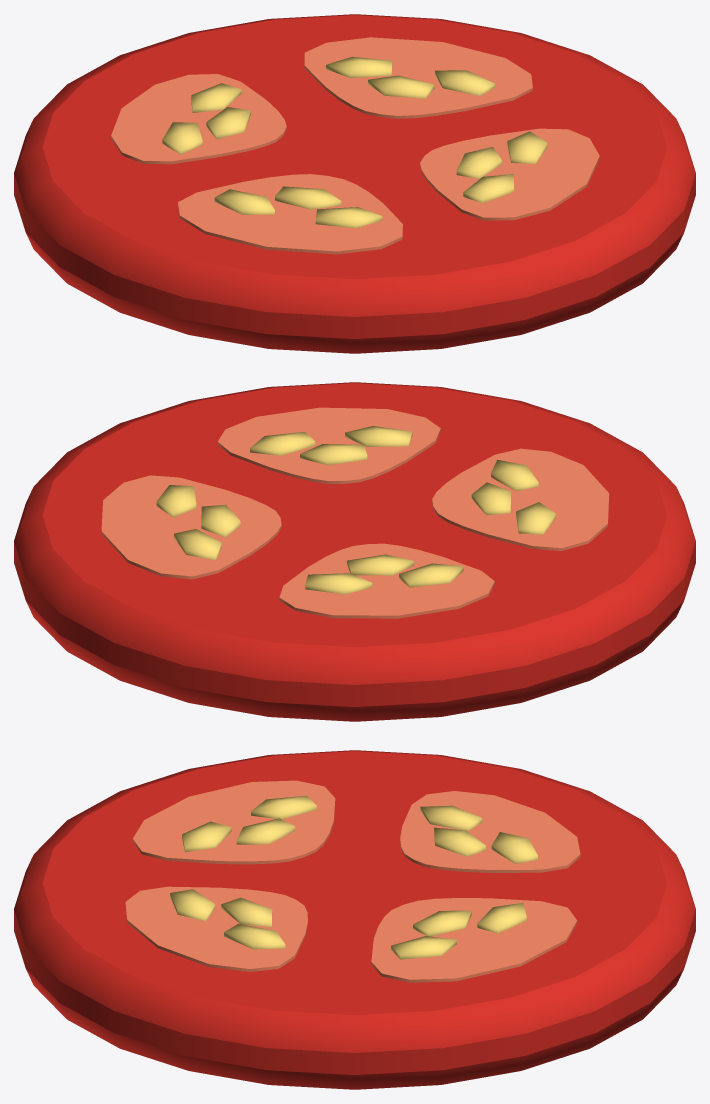
The model's file is Food_Tomato.fbx.
3 views of the same model, one above another, from view 1: azimuth 30°, elevation 25°; view 2: azimuth 150°, elevation 25°; view 3: azimuth 270°, elevation 25° (orthographic).
Parts seen in each view (by area): view 1: Flesh, Core, Seeds; view 2: Flesh, Core, Seeds; view 3: Flesh, Core, Seeds.
Boxes of the visible parts, left/top/right/bottom form: Flesh: left=14, top=14, right=695, bottom=353; Core: left=111, top=37, right=599, bottom=254; Seeds: left=162, top=56, right=547, bottom=228; Flesh: left=14, top=382, right=695, bottom=721; Core: left=101, top=407, right=609, bottom=618; Seeds: left=156, top=426, right=555, bottom=594; Flesh: left=14, top=750, right=695, bottom=1089; Core: left=125, top=780, right=580, bottom=982; Seeds: left=170, top=795, right=537, bottom=959.
Size of the model in its own units: 84 by 12 by 84.
